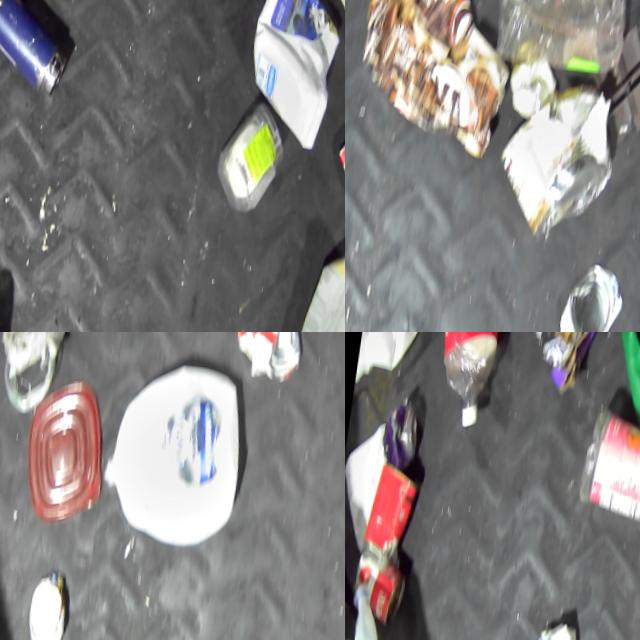can: (555, 256, 630, 332), (349, 550, 413, 631), (230, 332, 313, 384), (379, 393, 425, 473), (328, 109, 345, 212)
milk_jug: (100, 355, 255, 553), (355, 332, 446, 392), (345, 581, 437, 640)
non_white_jug: (593, 332, 640, 449)
plastic_bottle: (421, 332, 511, 432), (575, 437, 640, 533)
